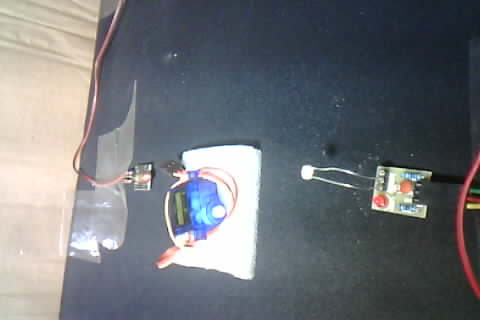motor: (147, 140, 260, 280)
